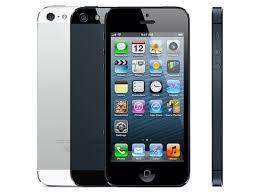iphone: (102, 5, 192, 189)
iphone5: (101, 4, 191, 188)
